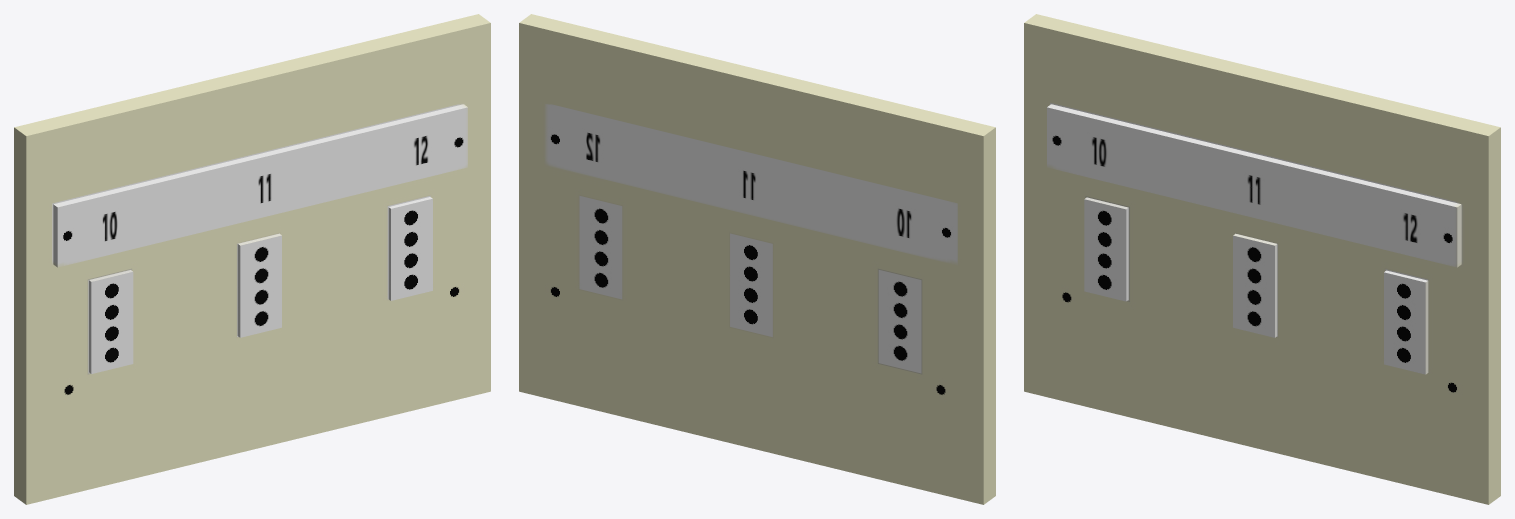
Rendered from elevator_electrical_panel_FBX.fbx.
3 views of the same model, side by side, from view 1: azimuth 30°, elevation 25°; view 2: azimuth 150°, elevation 25°; view 3: azimuth 330°, elevation 25° (orthographic).
Visible parts, largest first — view 1: pCube1, pCube3, pCube7, pCube5, pCube6; view 2: pCube1; view 3: pCube1, pCube3, pCube5, pCube7, pCube6.
Part boxes in pixels (<box>): pCube1: <box>14,14,490,504</box>; pCube3: <box>53,104,467,267</box>; pCube7: <box>237,233,281,337</box>; pCube5: <box>89,270,133,373</box>; pCube6: <box>388,197,432,300</box>; pCube1: <box>519,14,995,504</box>; pCube1: <box>1024,14,1500,504</box>; pCube3: <box>1047,104,1461,267</box>; pCube5: <box>1084,197,1128,301</box>; pCube7: <box>1233,233,1277,337</box>; pCube6: <box>1384,270,1428,374</box>.
Bounding box in the file's own units: 15.42 × 11.69 × 0.9449.
Materials: 1 (1 with a texture image).
